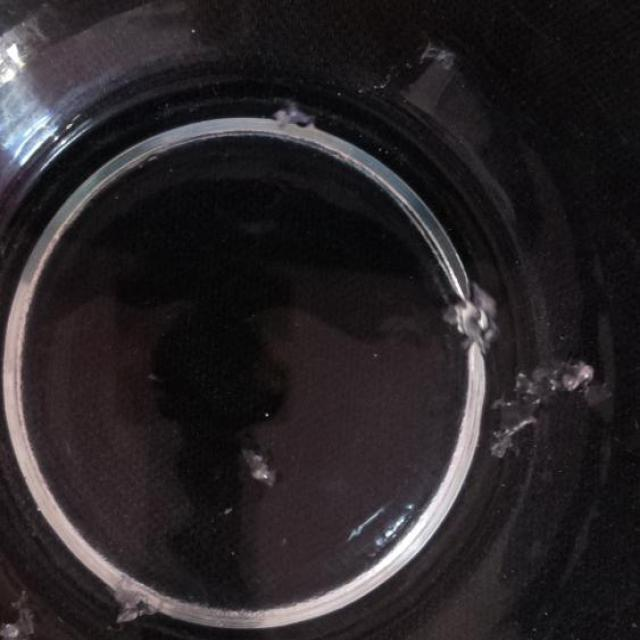fiber: (483, 362, 597, 456), (441, 287, 514, 353), (104, 567, 160, 627), (243, 447, 283, 490), (0, 593, 35, 640), (277, 106, 318, 144)
